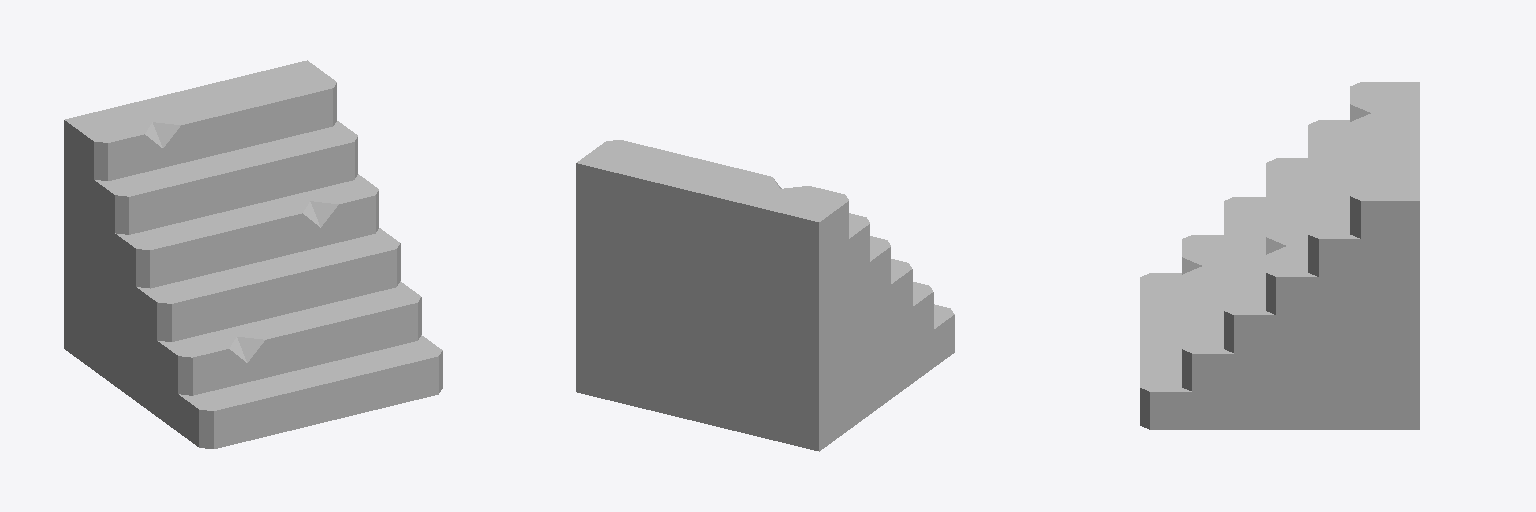
Rendered from stairs.obj.
3 views of the same model, side by side, from view 1: azimuth 30°, elevation 25°; view 2: azimuth 150°, elevation 25°; view 3: azimuth 270°, elevation 25° (orthographic).
Visible parts, largest first — view 1: stairs; view 2: stairs; view 3: stairs.
Boxes of the visible parts, box(x1,y1,x2,y2) form: stairs: box(64, 60, 442, 448); stairs: box(576, 140, 954, 451); stairs: box(1140, 82, 1419, 429).
Size of the model in its own units: 1 by 0.9 by 1.